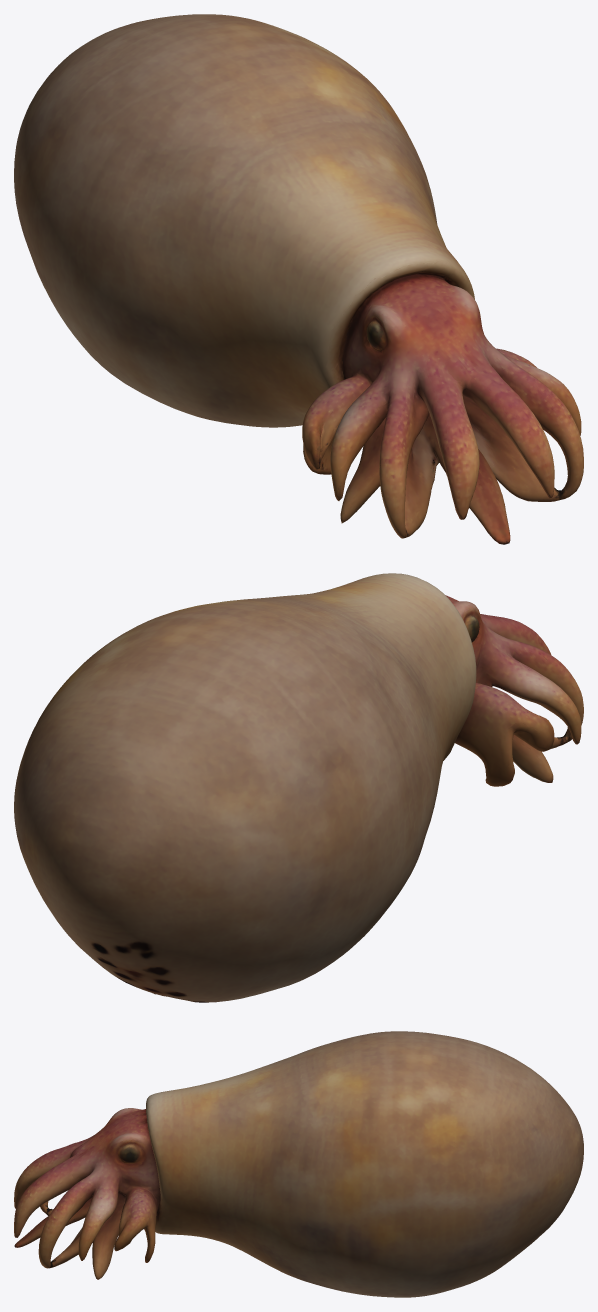
3 views of the same model, one above another, from view 1: azimuth 30°, elevation 25°; view 2: azimuth 150°, elevation 25°; view 3: azimuth 270°, elevation 25° (orthographic). The views are drawn at different scales.
Parts seen in each view (by area): view 1: world; view 2: world; view 3: world.
Part boxes in pixels (box(x1,y1,x2,y2)): world: box(14, 14, 583, 544); world: box(14, 573, 583, 1002); world: box(14, 1031, 583, 1297).
Size of the model in its own units: 0.0565 by 0.056 by 0.12.
1 material, 1 textured.
